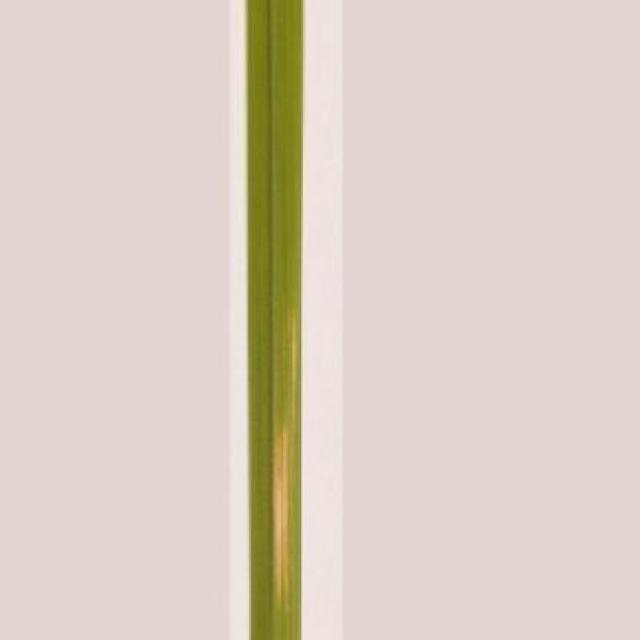Brown_Spot: (244, 0, 307, 640)
